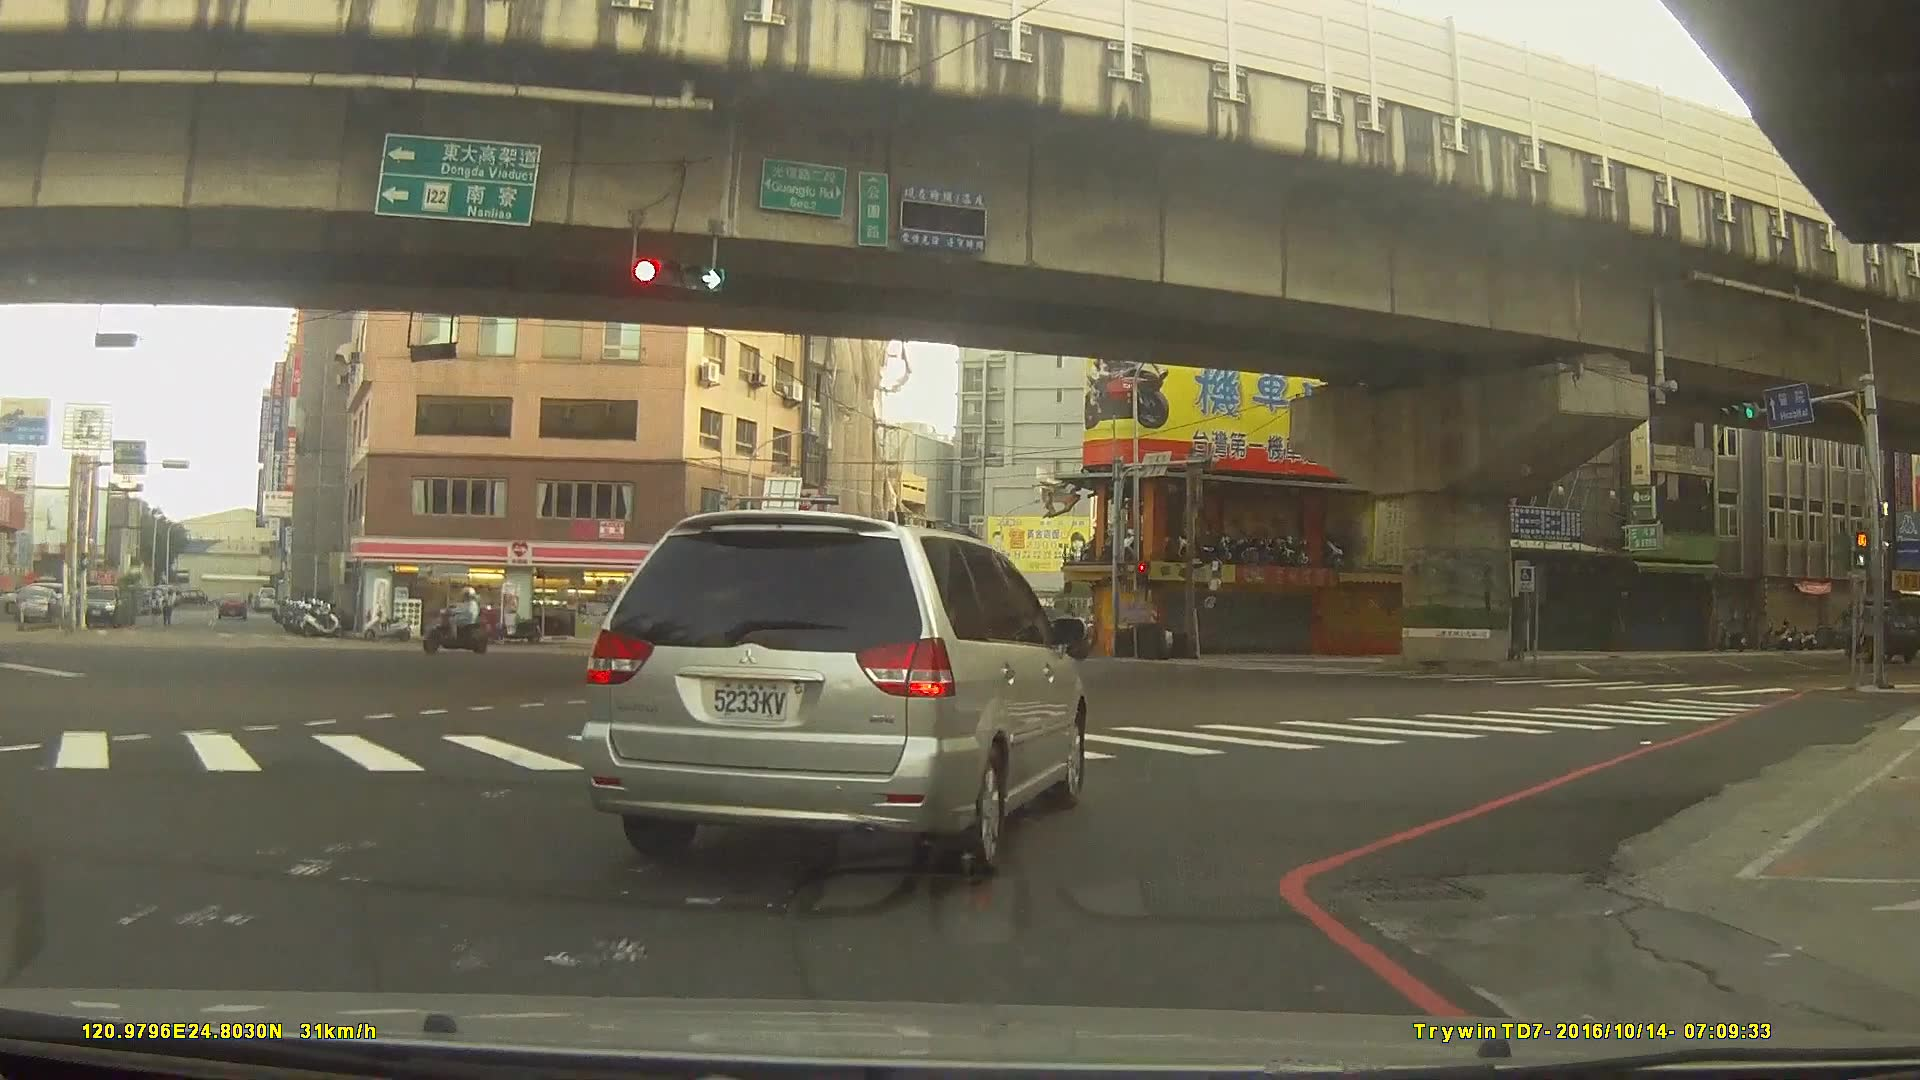rider: (426, 589, 495, 654), (1028, 598, 1088, 658)
vehicle: (577, 507, 1087, 876), (1842, 596, 1920, 663), (872, 626, 941, 665), (80, 582, 123, 627), (543, 606, 605, 633), (213, 590, 249, 621)
